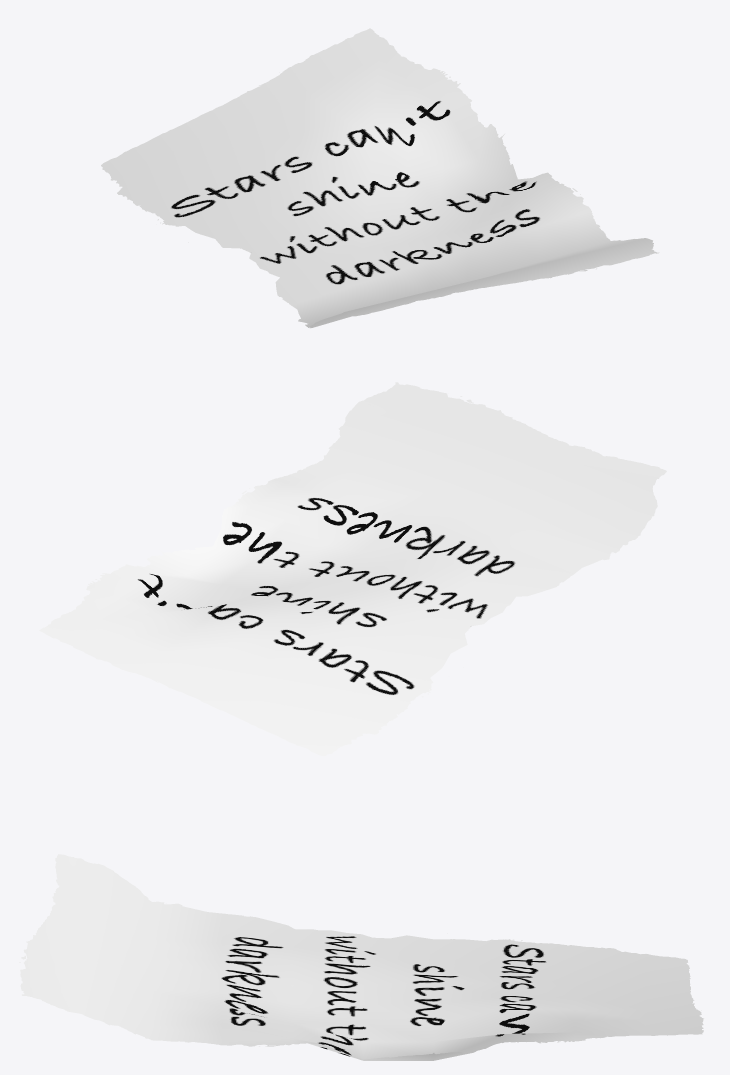
The model's file is quoteOnee.fbx.
3 views of the same model, one above another, from view 1: azimuth 30°, elevation 25°; view 2: azimuth 150°, elevation 25°; view 3: azimuth 270°, elevation 25° (orthographic). The views are drawn at different scales.
Parts seen in each view (by area): view 1: pPlane1; view 2: pPlane1; view 3: pPlane1.
Part boxes in pixels (x1=…): pPlane1: x1=101, y1=28, x2=659, y2=328; pPlane1: x1=39, y1=382, x2=666, y2=755; pPlane1: x1=19, y1=854, x2=703, y2=1060.
Size of the model in its own units: 1.67 by 0.4527 by 2.62.
